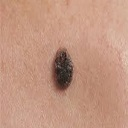Melanoma: (52, 44, 78, 91)
